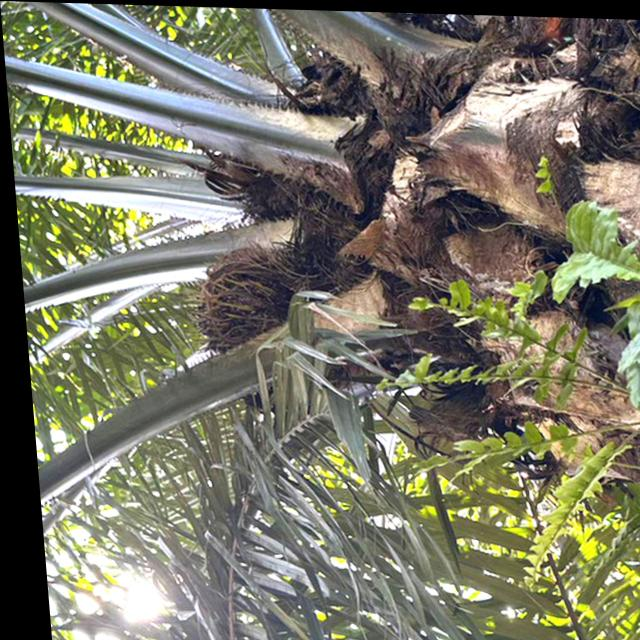unripe: (176, 238, 296, 358)
